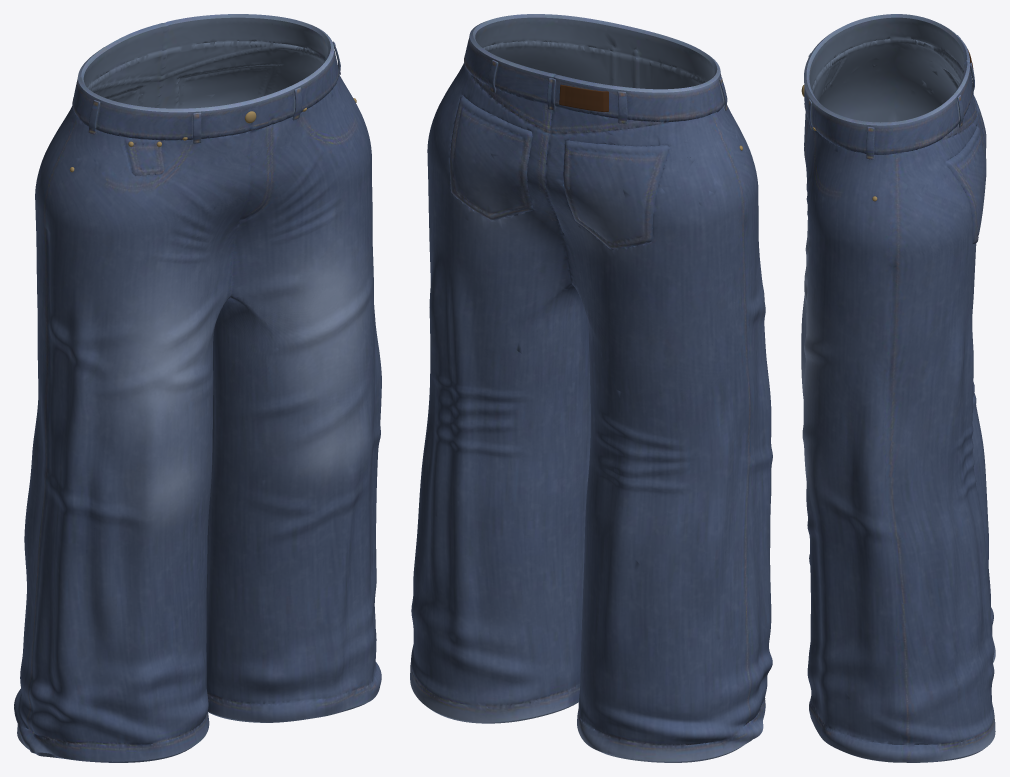
Rendered from 24_vaquero_wide_leg_pbr.glb.
3 views of the same model, side by side, from view 1: azimuth 30°, elevation 25°; view 2: azimuth 150°, elevation 25°; view 3: azimuth 270°, elevation 25° (orthographic). The views are drawn at different scales.
Parts seen in each view (by area): view 1: Vaquero PBR; view 2: Vaquero PBR, Etiqueta de piel; view 3: Vaquero PBR.
Part boxes in pixels (box(x1,y1,x2,y2)): Vaquero PBR: box(14, 14, 381, 762); Vaquero PBR: box(410, 14, 772, 762); Etiqueta de piel: box(559, 84, 608, 111); Vaquero PBR: box(801, 14, 995, 762).
Bounding box in the file's own units: 0.5457 × 1.03 × 0.2849.
Materials: 3 (1 with a texture image).
